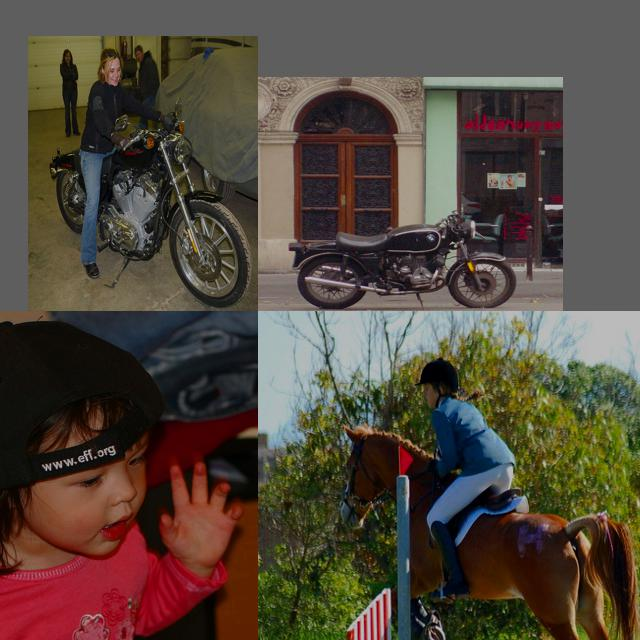chair: (116, 131, 148, 162)
dog: (444, 197, 533, 263)
person: (348, 83, 558, 311)
sofa: (159, 131, 201, 155)
train: (10, 443, 59, 510)
